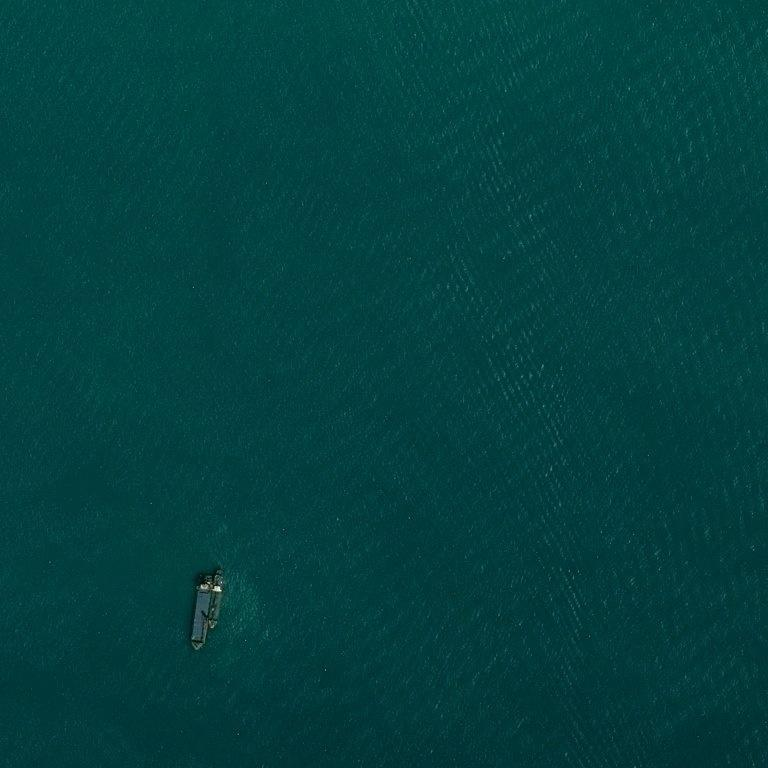ship: (190, 573, 213, 653), (209, 568, 226, 630)
